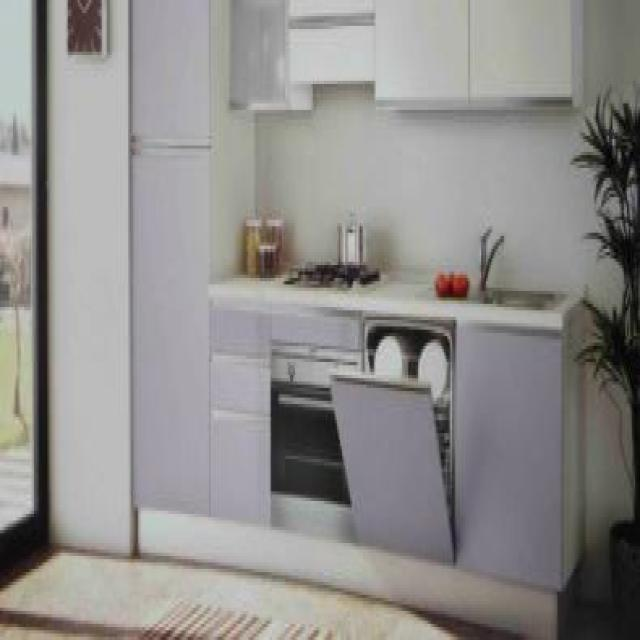dishwasher: (326, 310, 455, 562)
